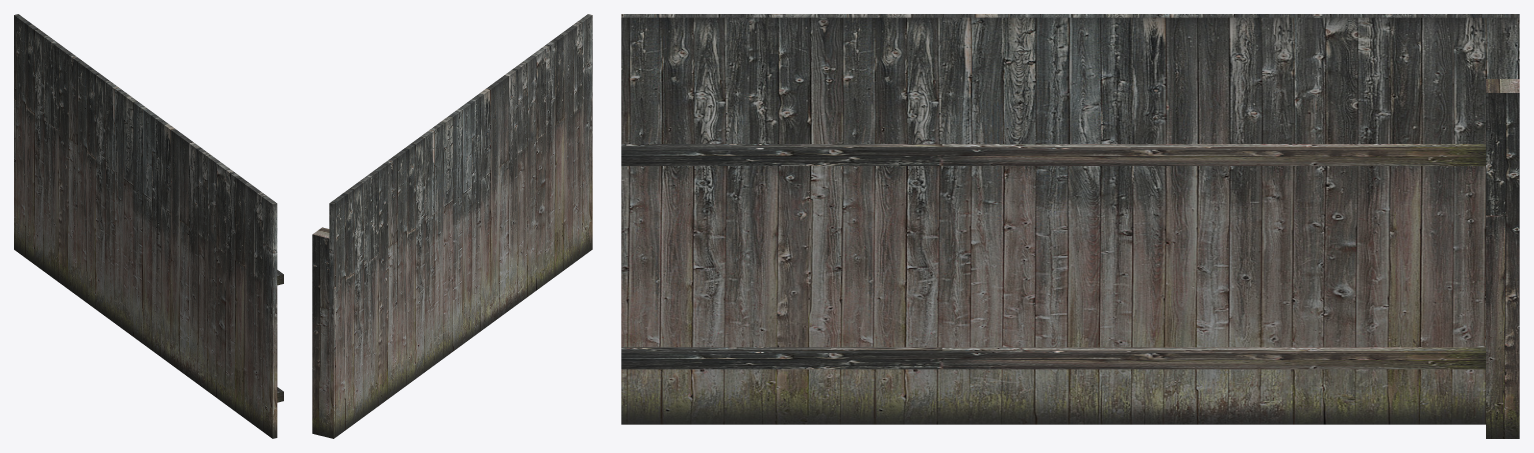
Rendered from sibir_zabor_derevo2.FBX.
The picture shows the model from 3 angles, left to right: view 1: azimuth 30°, elevation 25°; view 2: azimuth 150°, elevation 25°; view 3: azimuth 270°, elevation 25°; orthographic projection. The views are drawn at different scales.
Parts seen in each view (by area): view 1: sibir_zabor_derevo2; view 2: sibir_zabor_derevo2; view 3: sibir_zabor_derevo2.
Boxes of the visible parts, left/top/right/bottom form: sibir_zabor_derevo2: left=14, top=14, right=283, bottom=438; sibir_zabor_derevo2: left=312, top=14, right=592, bottom=438; sibir_zabor_derevo2: left=621, top=14, right=1519, bottom=438.
Bounding box in the file's own units: 19.02 × 400 × 200.
